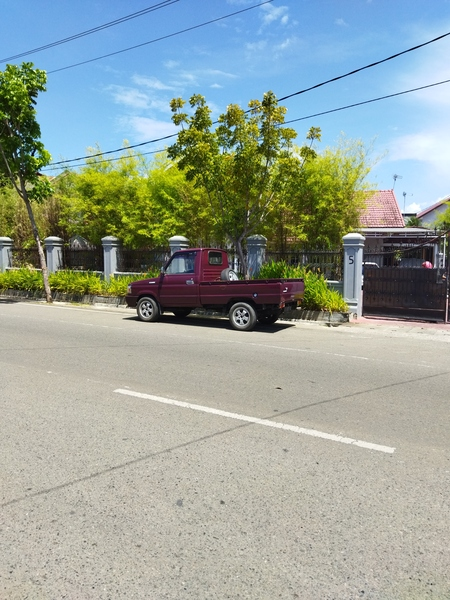car: (121, 244, 306, 335)
